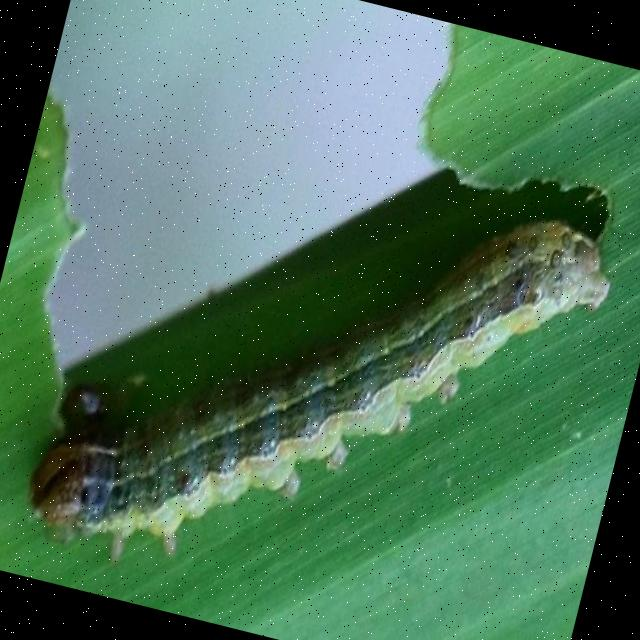worm: (16, 111, 624, 640)
